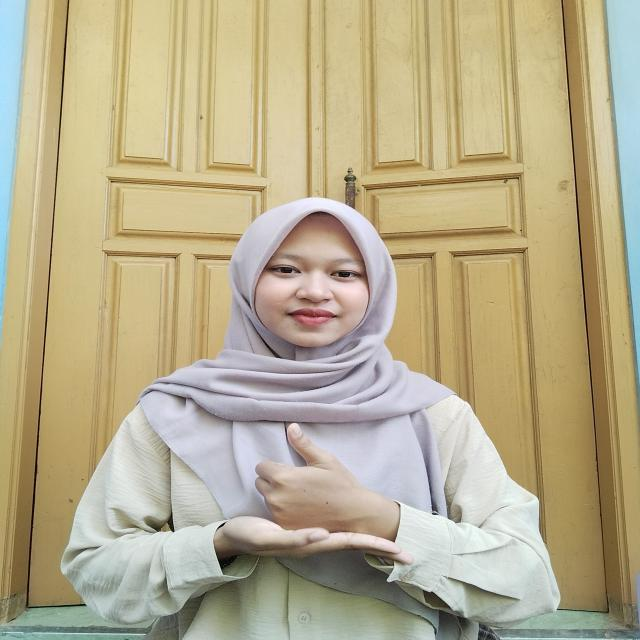cantik: (214, 419, 419, 578)
